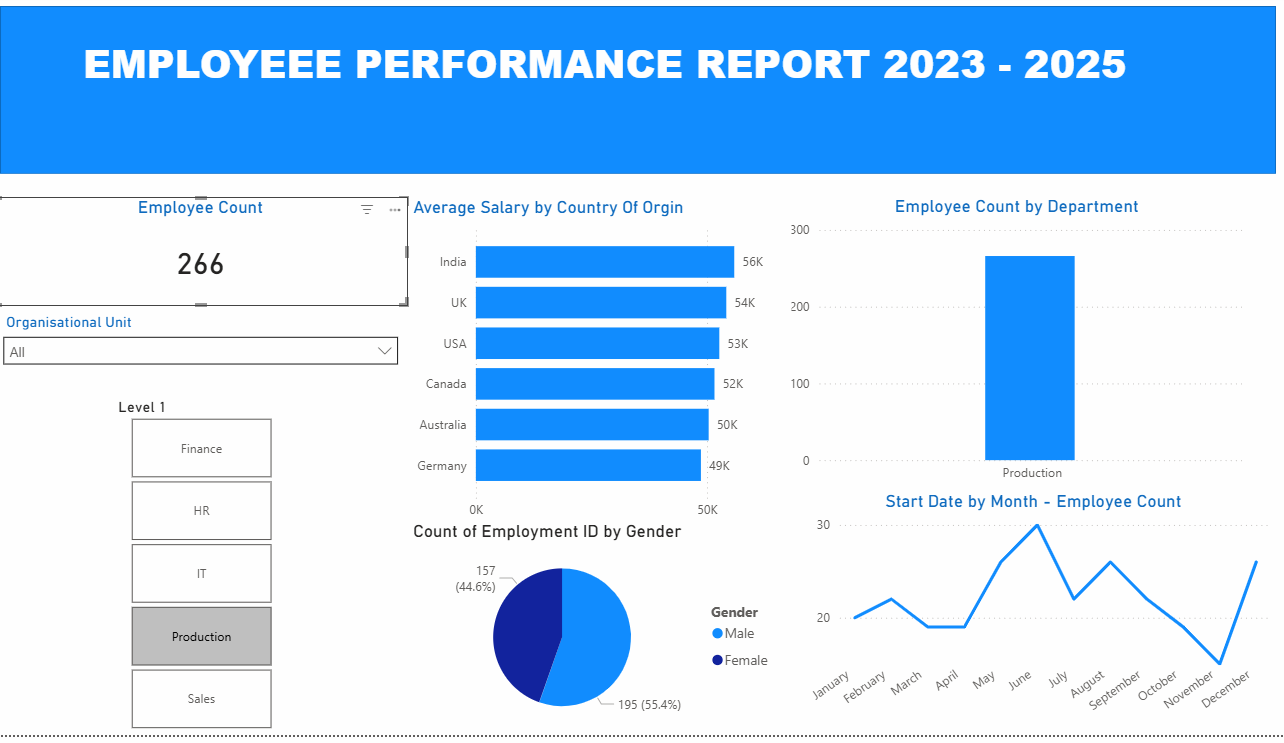

Layout of this report page (visuals, bound fields, positions):
{"tool":"powerbi","page":{"name":"Page 1","canvas":[1280,720],"ordinal":0},"visuals":[{"type":"shape","box":[24.3,13.6,1241.1,163.4],"z":0},{"type":"textbox","box":[107,35,1092.3,94.3],"z":1000},{"type":"clusteredColumnChart","title":"Employee Count by Department","fields":{"Y":["CountNonNull(Data.Employment ID)"],"Category":["Data.Level 1"]},"box":[793.7,195.5,453.3,286.9],"z":2000},{"type":"lineChart","title":"Start Date by Month -  Employee Count","fields":{"Category":["Data.Start Date.Variation.Date Hierarchy.Month"],"Y":["CountNonNull(Data.Employment ID)"]},"box":[800.5,482.4,471.7,236.4],"z":3000},{"type":"clusteredBarChart","title":"Average Salary by Country Of Orgin","fields":{"Category":["PID.Country of Origin"],"Y":["Avg(Data.Salary Annual)"]},"box":[428,196.5,372.5,321.9],"z":4000},{"type":"pieChart","fields":{"Category":["PID.Gender"],"Y":["CountNonNull(PID.Employment ID)"]},"box":[428,511.6,365.7,207.2],"z":5000},{"type":"card","title":"Employee Count","fields":{"Values":["CountNonNull(Data.Employment ID)"]},"box":[24.3,196.5,403.6,106],"z":6000},{"type":"slicer","fields":{"Values":["Data.Organisational Unit"]},"box":[24.3,304.4,403.6,81.7],"z":7000},{"type":"slicer","fields":{"Values":["Data.Level 1"]},"box":[133.3,387.1,185.8,332.6],"z":8000}]}

Visuals, with their boxes in screenshot pixels (x1, y1, x2, y2), scaled from the page's 1280x720 canvas onto the 1284x743 screenshot:
shape: 24, 14, 1269, 183
textbox: 107, 36, 1203, 133
"Employee Count by Department" clusteredColumnChart: 796, 202, 1251, 498
"Start Date by Month -  Employee Count" lineChart: 803, 498, 1276, 742
"Average Salary by Country Of Orgin" clusteredBarChart: 429, 203, 803, 535
pieChart - PID.Gender x CountNonNull(PID.Employment ID): 429, 528, 796, 742
"Employee Count" card: 24, 203, 429, 312
slicer - Data.Organisational Unit: 24, 314, 429, 398
slicer - Data.Level 1: 134, 399, 320, 742
